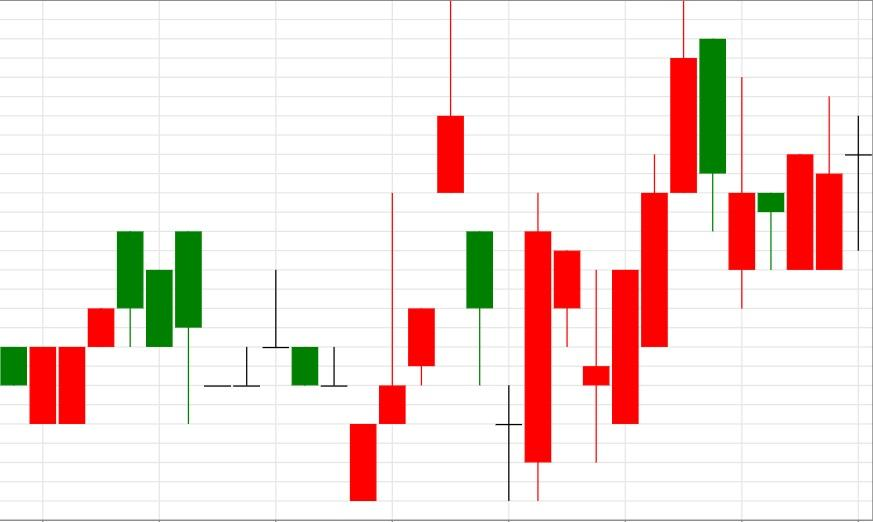bullish_engulfing_rise: (699, 39, 815, 308)
three_white_soldiers_rise: (262, 192, 436, 501)
